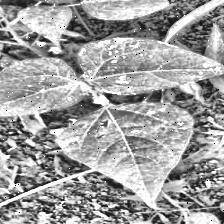ALS: (57, 102, 192, 210), (70, 39, 224, 95), (0, 57, 84, 126), (16, 9, 76, 43), (88, 0, 172, 22)
